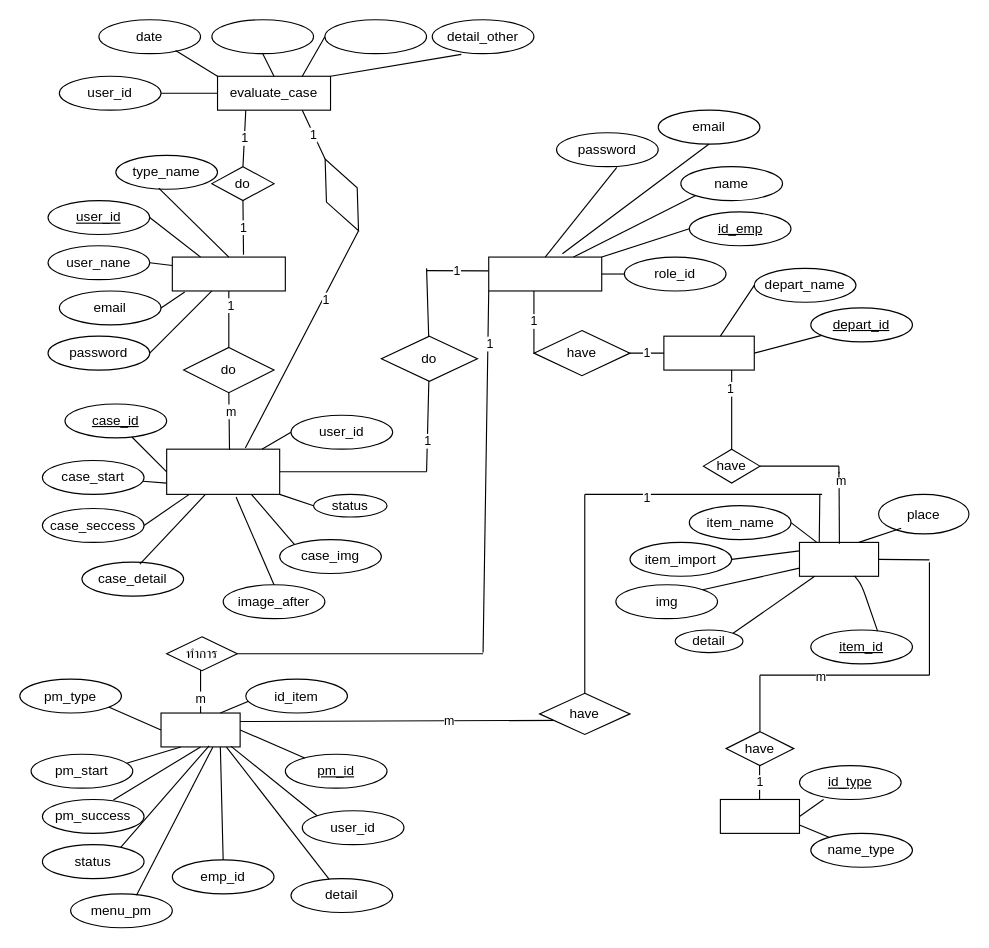
Some shapes in this 989 by 948 pixel diagram are drawn without their labels. Each missing label, with the centre of its shape:
case_repair: [223,471]
depart: [708,352]
empoyee: [545,273]
id: [262,36]
item: [838,558]
item_type: [759,815]
pm: [200,729]
score: [375,36]
user: [228,273]
was: [341,194]
